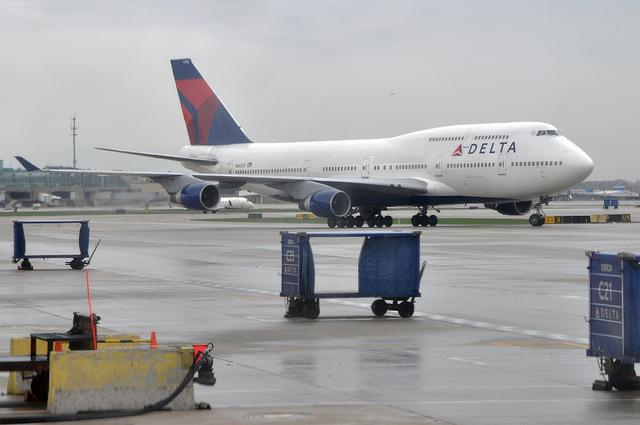airplane: (15, 56, 596, 228), (222, 193, 258, 214)
